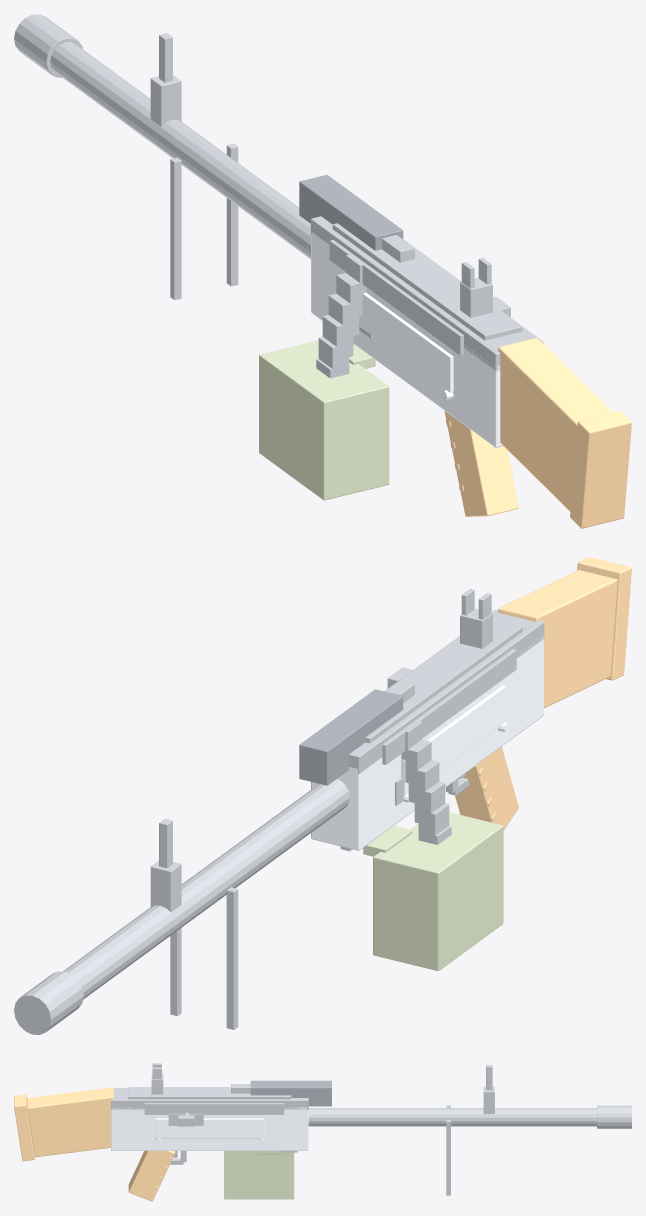
The picture shows the model from 3 angles, top to bottom: view 1: azimuth 30°, elevation 25°; view 2: azimuth 150°, elevation 25°; view 3: azimuth 270°, elevation 25°; orthographic projection. The views are drawn at different scales.
Parts seen in each view (by area): view 1: mag, StockBody, Barrel, Receiver, FeedCover, StockBodyPlate, Grip, TopCarryHandle, BeltTail, StockIrons, ReceiverRibL, FeedTray (+3 smaller); view 2: mag, Barrel, Receiver, StockBody, FeedCover, TopCarryHandle, BeltTail, StockIrons, Grip, ReceiverRibL, FlashHider, FeedTray (+3 smaller); view 3: Receiver, Barrel, StockBody, mag, FeedCover, ReceiverRibR, FeedTray, TopCarryHandle, Grip, StockBodyPlate, StockIrons, FlashHider (+3 smaller).
Part boxes in pixels (left/top/right/bottom): mag: left=259, top=340, right=389, bottom=500; StockBody: left=498, top=338, right=612, bottom=511; Barrel: left=50, top=42, right=310, bottom=258; Receiver: left=311, top=232, right=503, bottom=447; FeedCover: left=310, top=216, right=544, bottom=371; StockBodyPlate: left=570, top=411, right=631, bottom=528; Grip: left=444, top=411, right=518, bottom=516; TopCarryHandle: left=299, top=175, right=403, bottom=250; BeltTail: left=316, top=254, right=366, bottom=378; StockIrons: left=150, top=33, right=492, bottom=317; ReceiverRibL: left=359, top=292, right=453, bottom=392; FeedTray: left=329, top=240, right=463, bottom=355; mag: left=363, top=812, right=503, bottom=970; Barrel: left=63, top=779, right=349, bottom=999; Receiver: left=311, top=637, right=543, bottom=850; StockBody: left=498, top=570, right=617, bottom=708; FeedCover: left=349, top=610, right=544, bottom=773; TopCarryHandle: left=299, top=689, right=403, bottom=785; BeltTail: left=401, top=720, right=451, bottom=844; StockIrons: left=150, top=588, right=492, bottom=912; Grip: left=455, top=747, right=518, bottom=830; ReceiverRibL: left=401, top=685, right=506, bottom=795; FlashHider: left=14, top=971, right=83, bottom=1034; FeedTray: left=382, top=649, right=516, bottom=764; Receiver: left=111, top=1107, right=308, bottom=1150; Barrel: left=308, top=1108, right=596, bottom=1126; StockBody: left=27, top=1087, right=113, bottom=1157; mag: left=224, top=1151, right=294, bottom=1199; FeedCover: left=111, top=1087, right=308, bottom=1109; ReceiverRibR: left=155, top=1118, right=264, bottom=1138; FeedTray: left=144, top=1103, right=284, bottom=1114; TopCarryHandle: left=250, top=1080, right=331, bottom=1106; Grip: left=128, top=1151, right=174, bottom=1201; StockBodyPlate: left=14, top=1094, right=34, bottom=1161; StockIrons: left=151, top=1063, right=494, bottom=1113; FlashHider: left=597, top=1105, right=631, bottom=1128.
Bounding box in the file's own units: 0.153 × 0.265 × 1.06.
